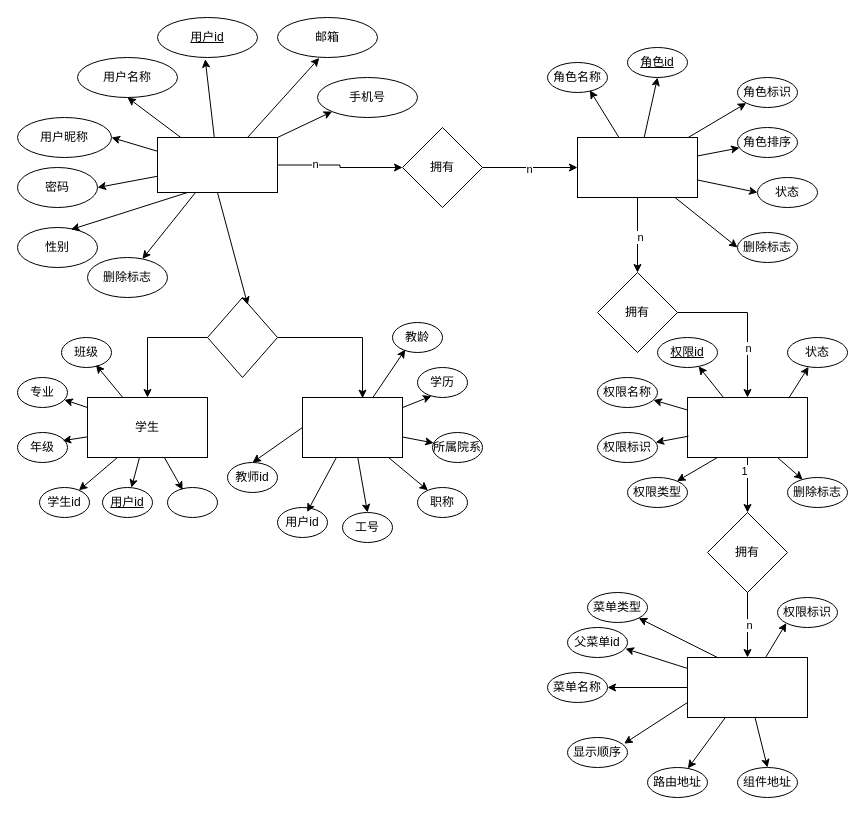
This 865x815 diagram has some shape labels left out. The centre of each missing label's shape, as x and y in pixels:
"关联" goes at pixel 242 337.
"学号" goes at pixel 192 502.
"教师" goes at pixel 352 427.
"权限" goes at pixel 747 427.
"用户" goes at pixel 217 164.
"菜单" goes at pixel 747 687.
"角色" goes at pixel 637 167.
